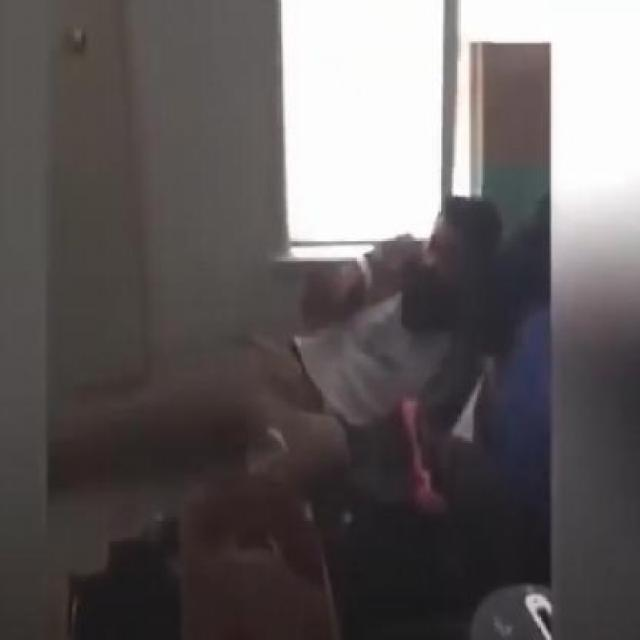fall: (49, 195, 496, 503)
